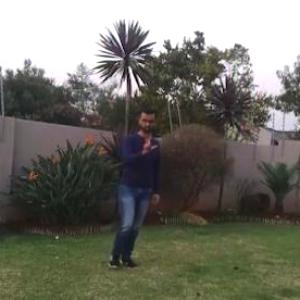land_hand: (131, 128, 162, 159)
